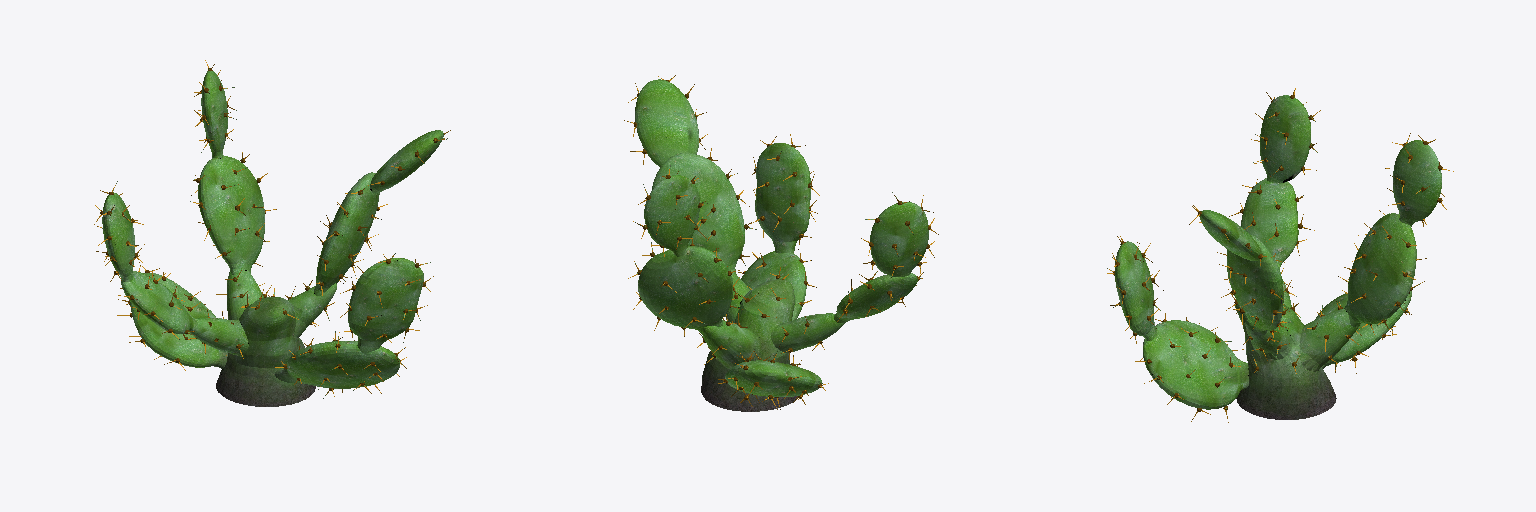
3 renders of one model, left to right at view 1: azimuth 30°, elevation 25°; view 2: azimuth 150°, elevation 25°; view 3: azimuth 270°, elevation 25°, orthographic.
Parts seen in each view (by area): view 1: Cactus 2_0; view 2: Cactus 2_0; view 3: Cactus 2_0.
Part boxes in pixels (x1,y1,x2,y2): Cactus 2_0: (94, 60, 450, 406); Cactus 2_0: (624, 75, 938, 411); Cactus 2_0: (1107, 88, 1453, 422).
Size of the model in its own units: 6.3 by 4.96 by 5.75.
Materials: 1 (1 with a texture image).